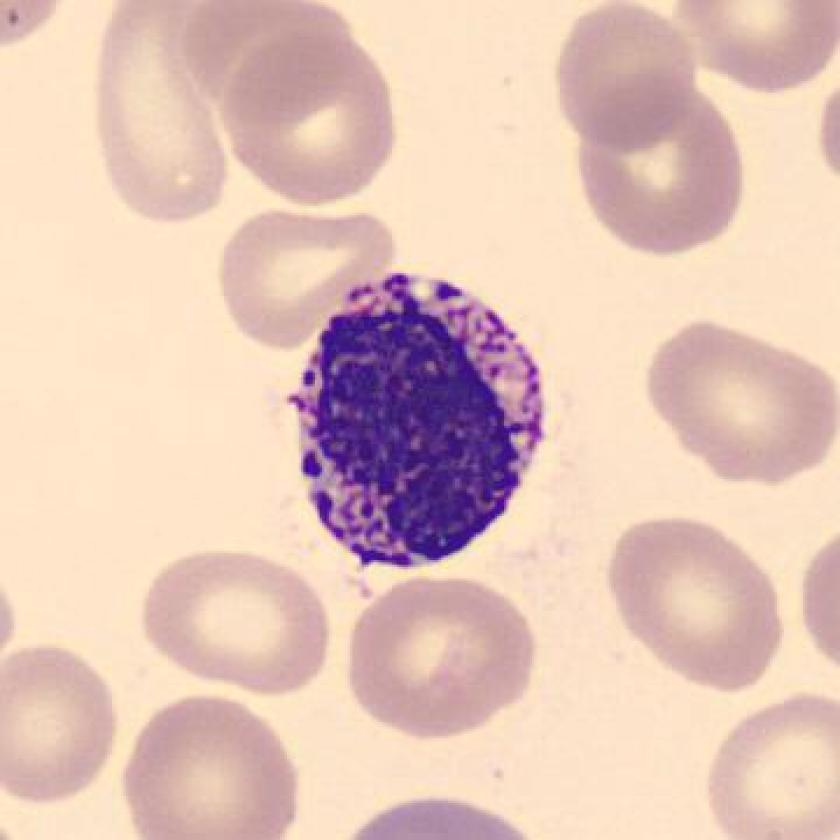basophil: (279, 270, 561, 573)
